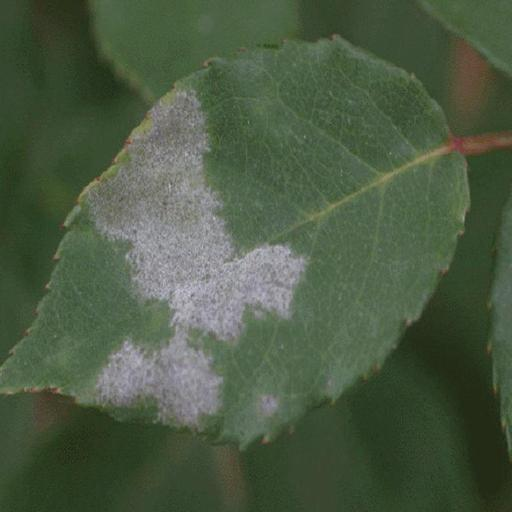powdery_mildew: (0, 37, 469, 447)
